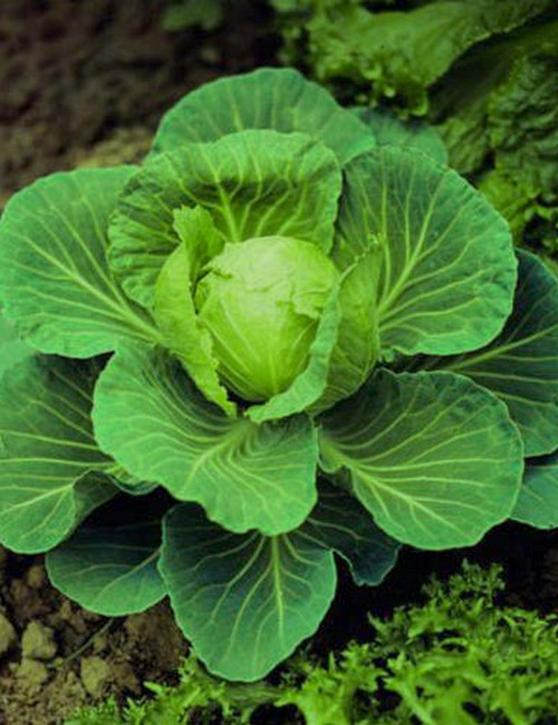cabbage: (149, 230, 376, 427)
